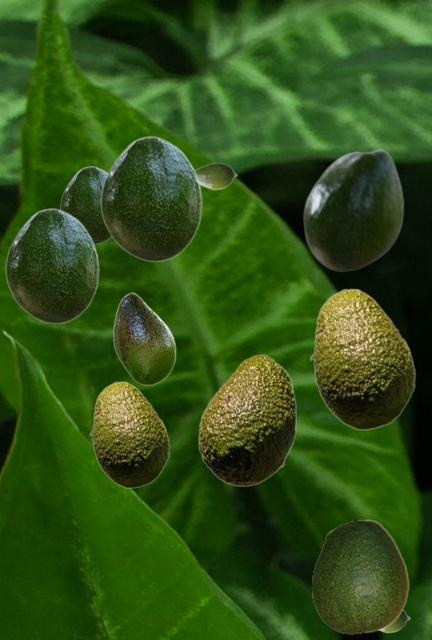avocado: (309, 288, 415, 429), (198, 354, 295, 486), (100, 136, 201, 261), (302, 148, 403, 271), (311, 519, 408, 633), (5, 208, 98, 323), (89, 381, 169, 487), (113, 292, 175, 384), (60, 166, 110, 243), (196, 162, 236, 189), (381, 611, 409, 632)
